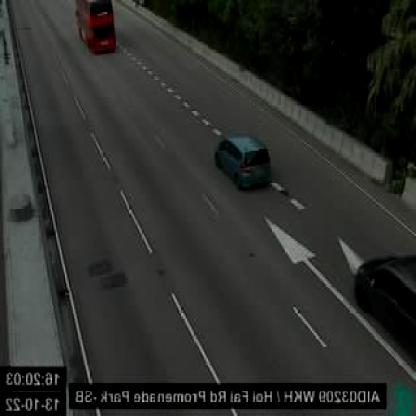Bus: (75, 1, 114, 53)
Car: (355, 252, 416, 368), (214, 130, 273, 192)
